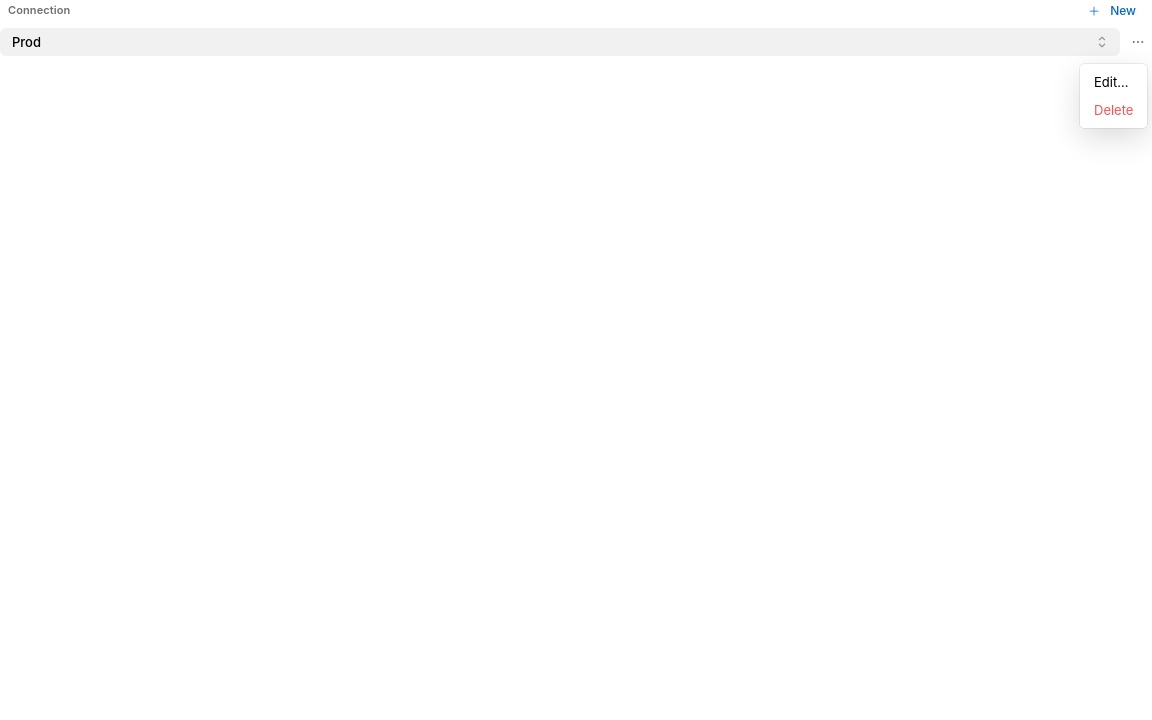
Scenario: ConnectionList delete dialog › ignores a late count from an earlier opening for the same connection
Earlier steps of the test are not shown.
Later steps or results of the test are not shown.
Step 1. Click the menu item "Delete" → (1113, 110), box [1084,96,1143,124]
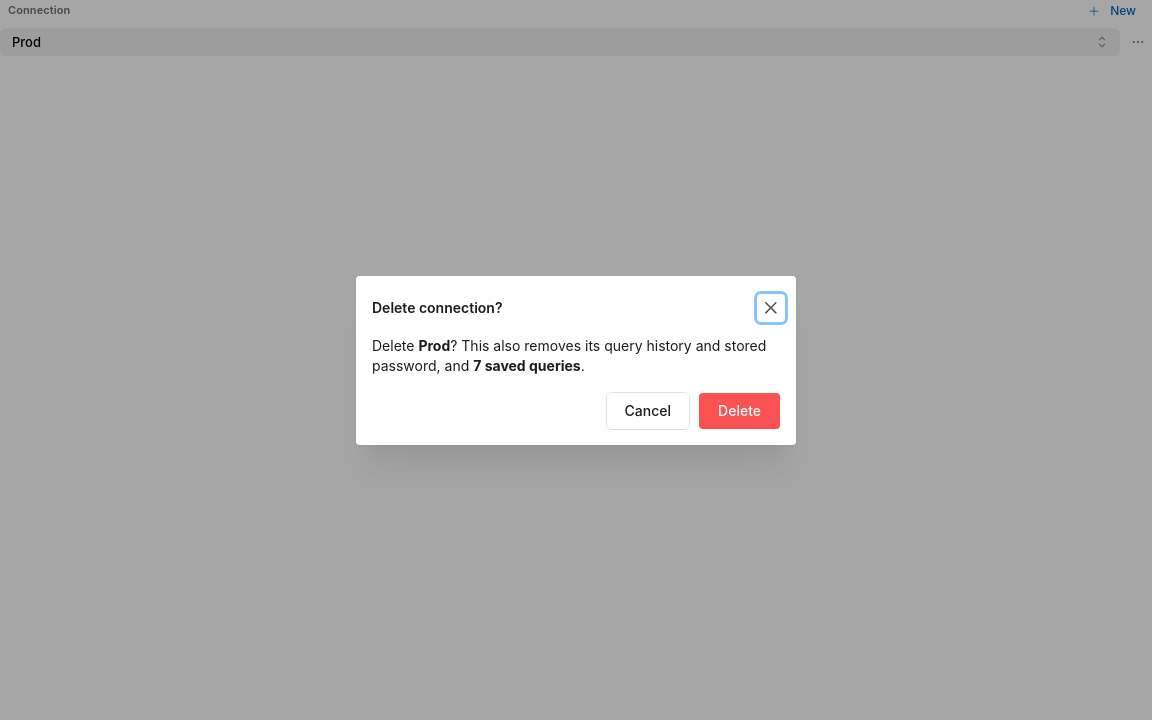
Expected: the text "7 saved queries" is shown, [473,357,581,374]
